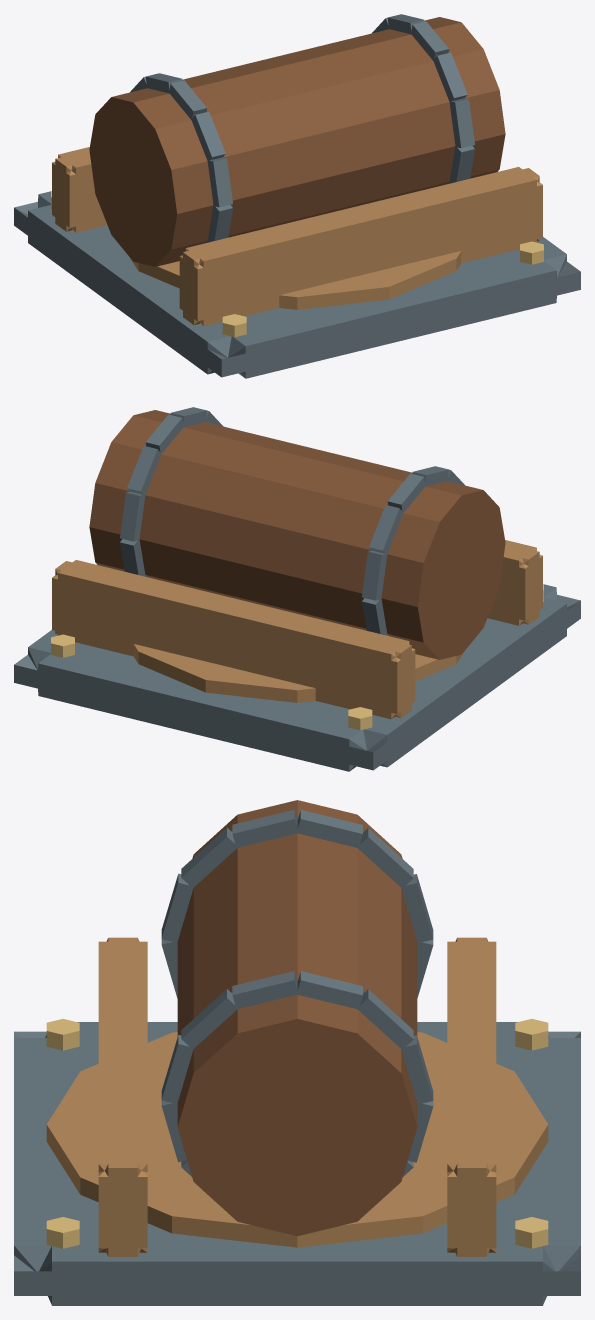
Rendered from TrapRollingLog.fbx.
The picture shows the model from 3 angles, top to bottom: view 1: azimuth 30°, elevation 25°; view 2: azimuth 150°, elevation 25°; view 3: azimuth 270°, elevation 25°; orthographic projection. The views are drawn at different scales.
Parts seen in each view (by area): view 1: TrapRollingLog.002; view 2: TrapRollingLog.002; view 3: TrapRollingLog.002.
Part boxes in pixels (left/top/right/bottom): TrapRollingLog.002: left=14, top=14, right=580, bottom=378; TrapRollingLog.002: left=14, top=407, right=580, bottom=771; TrapRollingLog.002: left=14, top=800, right=580, bottom=1305.
Bounding box in the file's own units: 1.04 × 0.5893 × 1.04.
